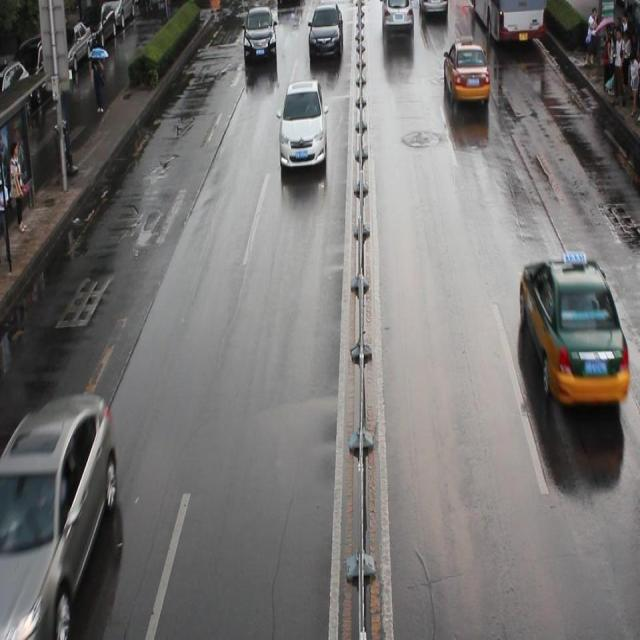car: (1, 390, 117, 640), (519, 254, 628, 405), (278, 80, 327, 170), (443, 40, 489, 101), (242, 1, 276, 62), (306, 1, 342, 58), (380, 1, 412, 33), (418, 2, 447, 15)
van: (469, 1, 546, 43)
